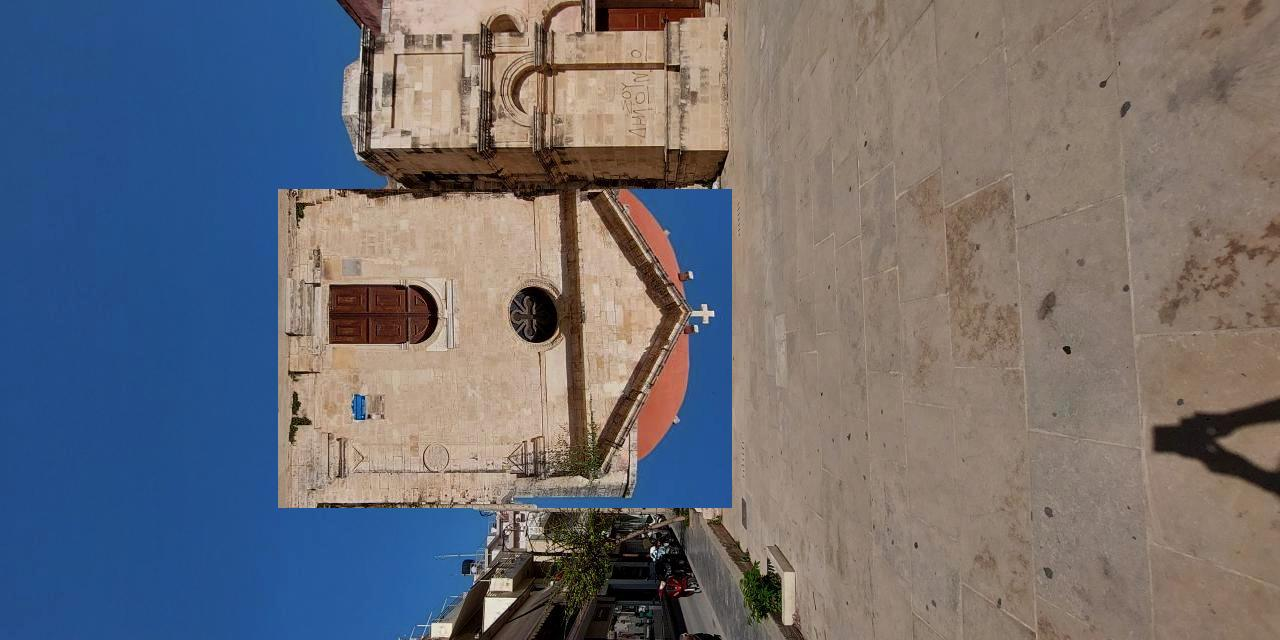Agia Aikaterini: (279, 190, 733, 509)
